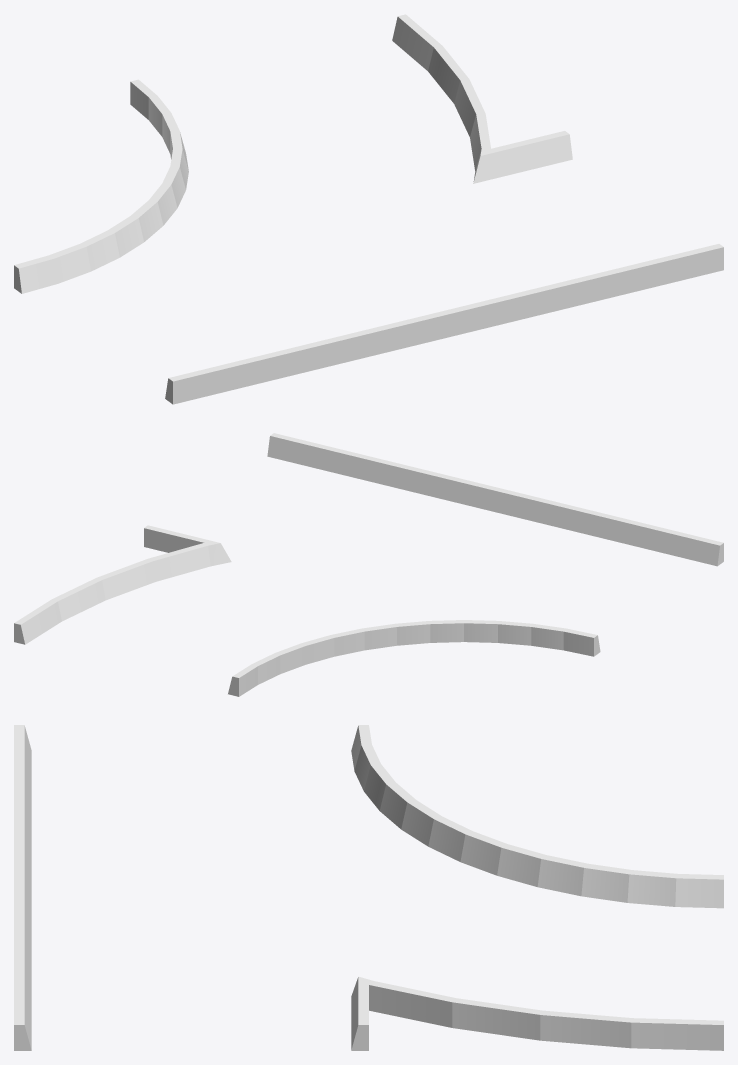
The model's file is road-curve-intersection-barrier_M.glb.
3 renders of one model, top to bottom at view 1: azimuth 30°, elevation 25°; view 2: azimuth 150°, elevation 25°; view 3: azimuth 270°, elevation 25°, orthographic. The views are drawn at different scales.
Visible parts, largest first — view 1: road-curve-intersection-barrier; view 2: road-curve-intersection-barrier; view 3: road-curve-intersection-barrier.
Part boxes in pixels (box(x1,y1,x2,y2)): road-curve-intersection-barrier: box(14, 14, 723, 404); road-curve-intersection-barrier: box(14, 433, 723, 696); road-curve-intersection-barrier: box(14, 725, 723, 1050).
Bounding box in the file's own units: 2 × 0.08 × 2.
1 material, 1 textured.
